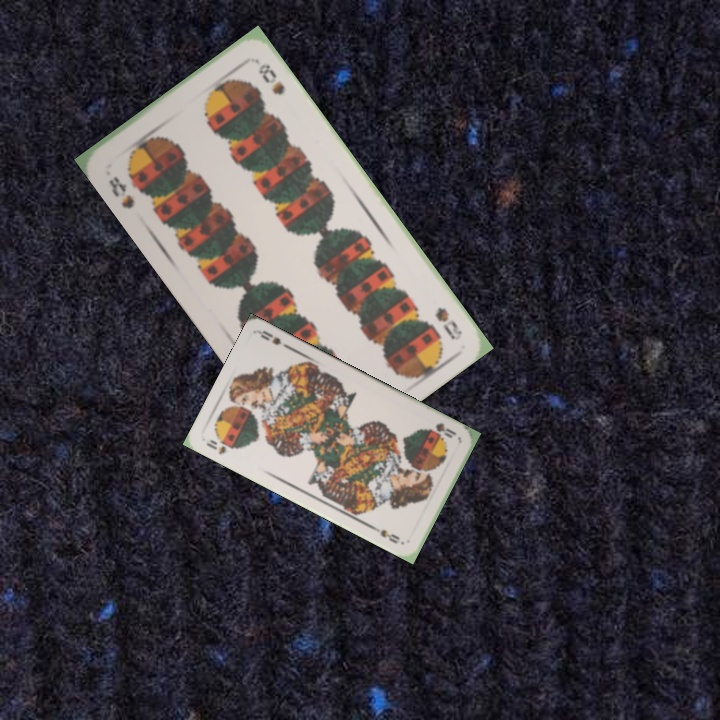S8: (431, 302, 465, 343), (104, 171, 137, 212)
SO: (424, 419, 459, 441), (202, 435, 229, 457)
